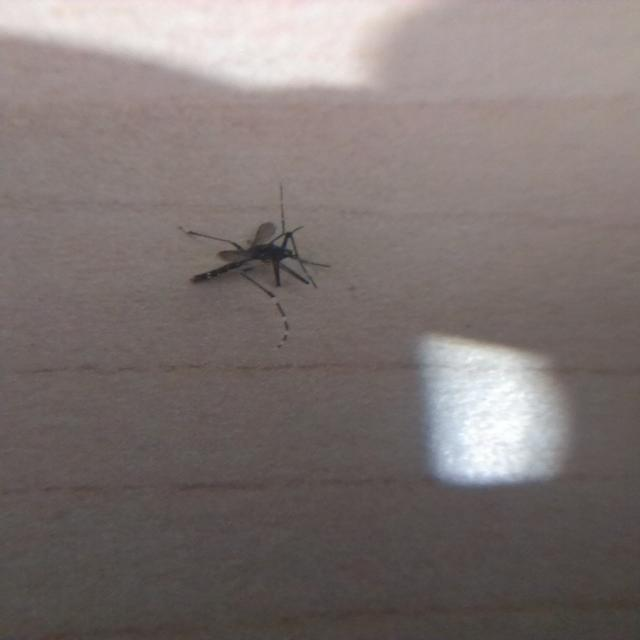albopictus: (166, 182, 342, 354)
